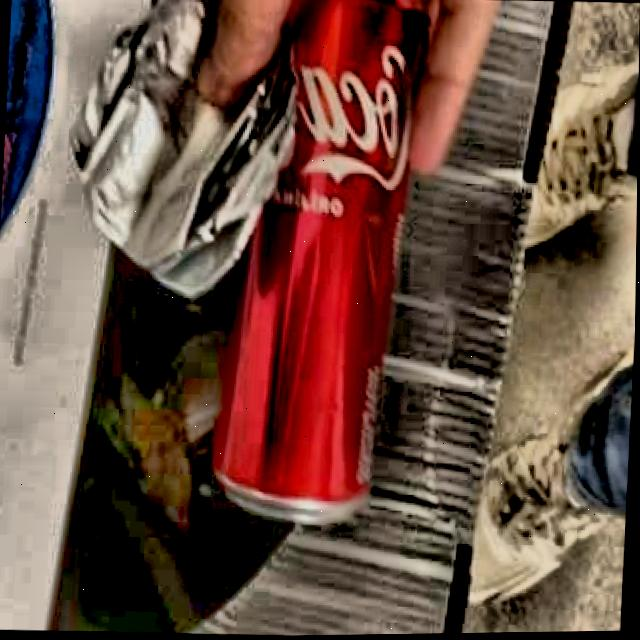metal: (217, 0, 427, 524)
